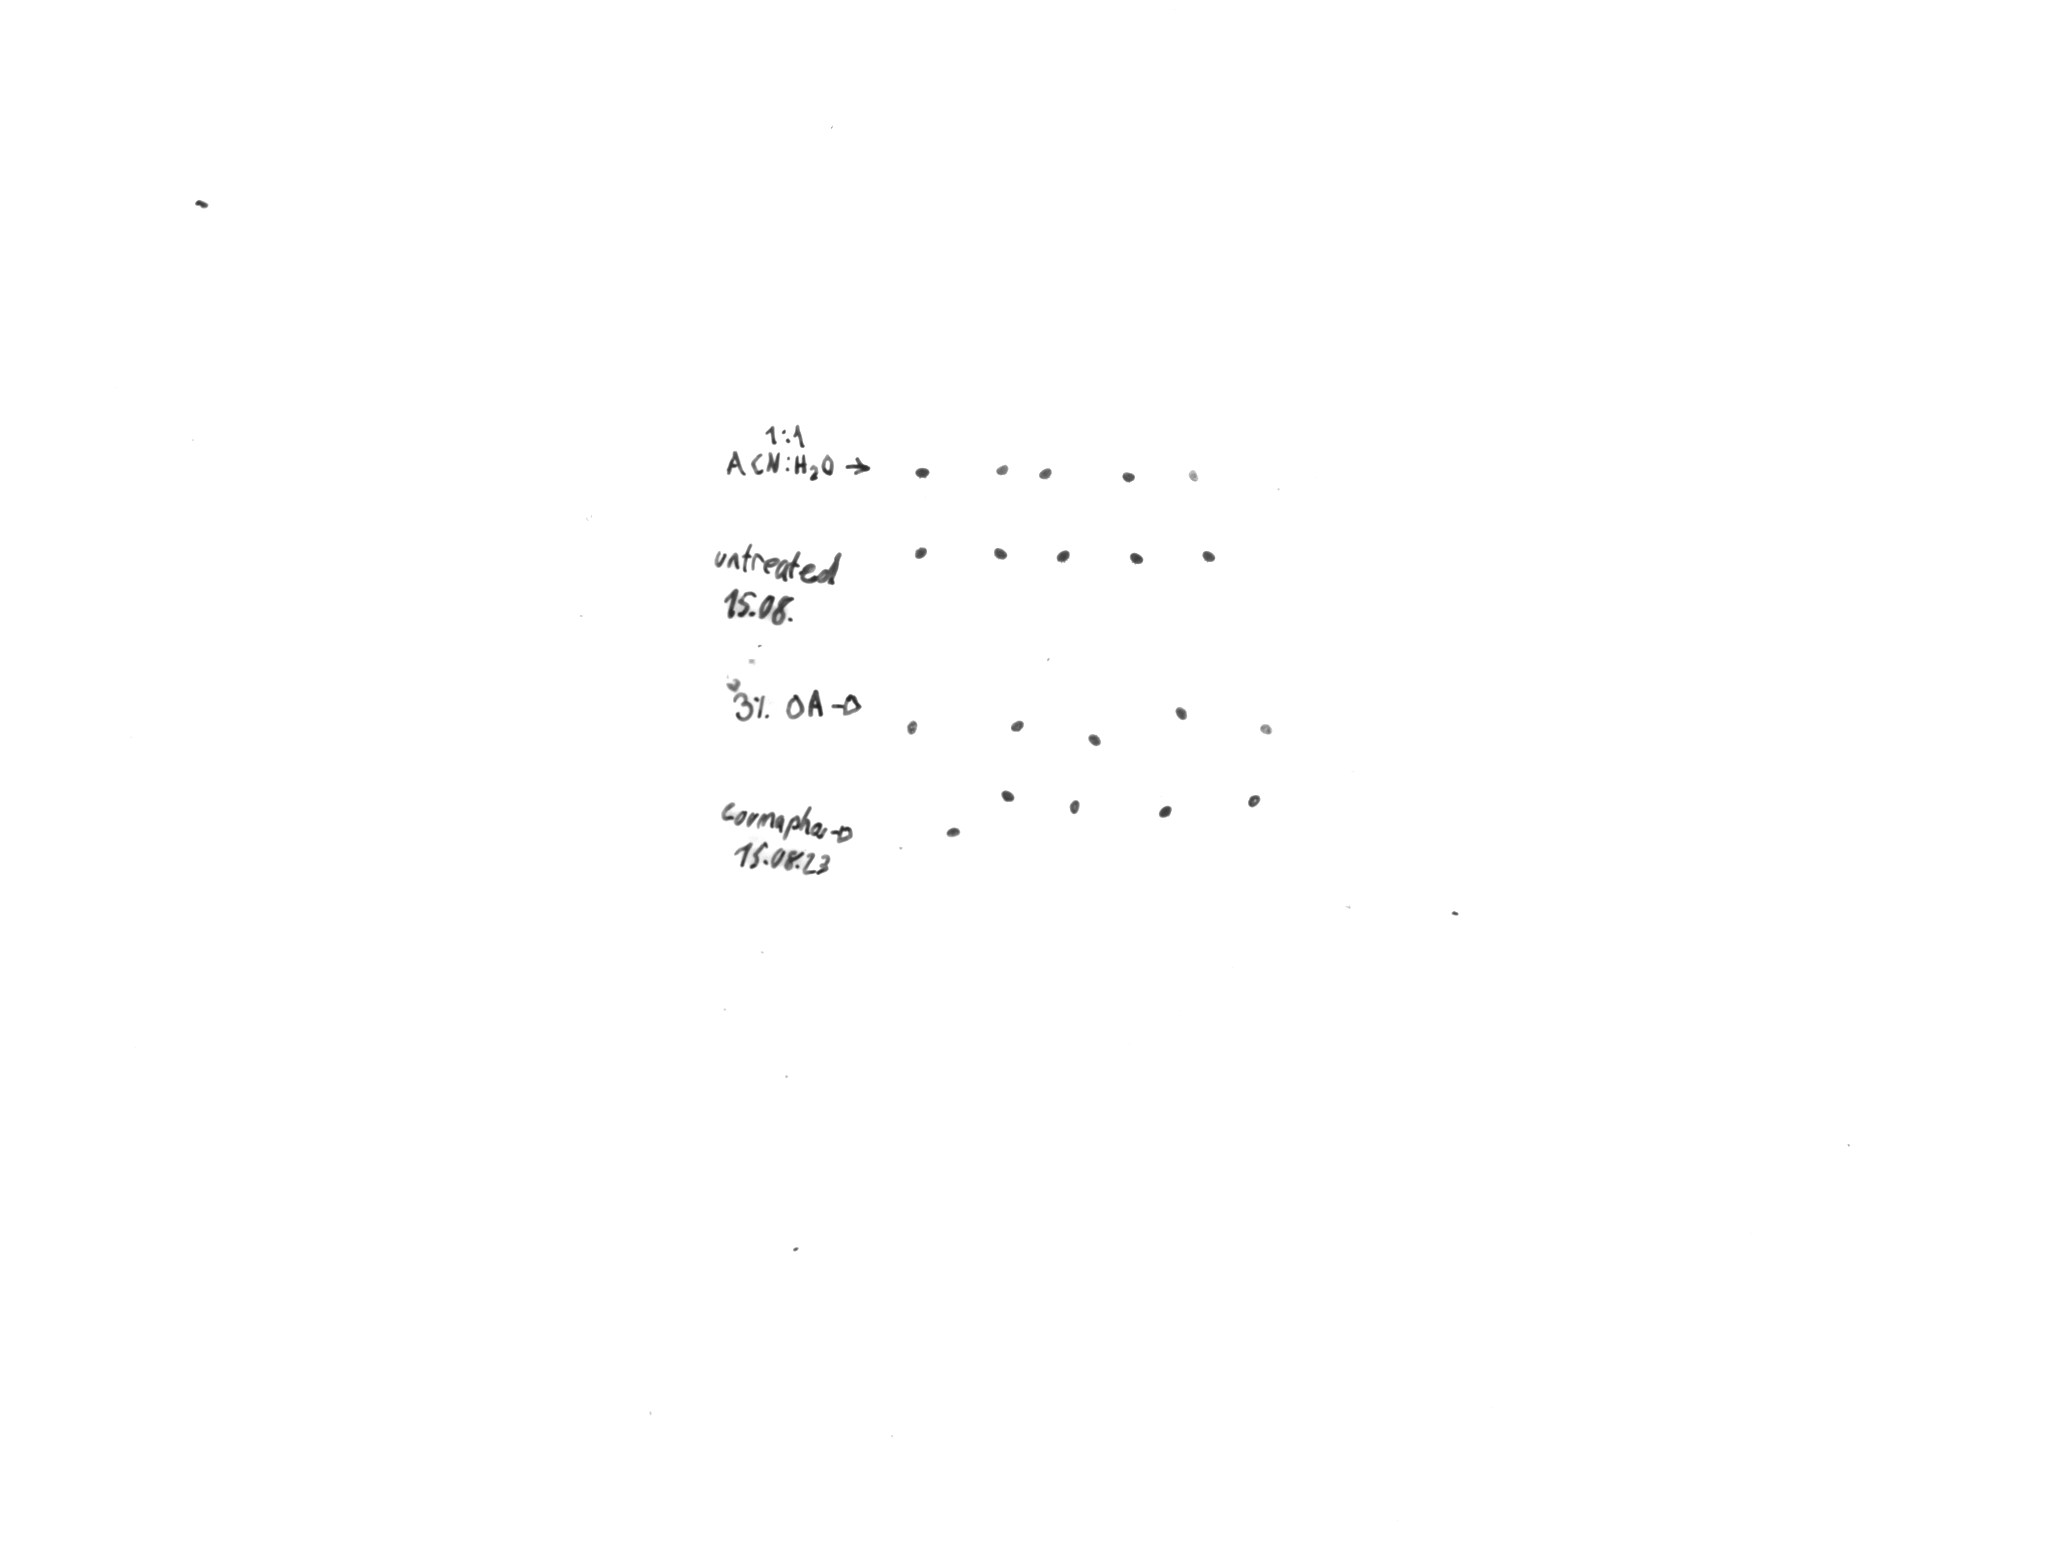varroa: (1036, 464, 1054, 482), (911, 464, 931, 480), (1007, 718, 1026, 733), (992, 545, 1008, 561), (1056, 548, 1072, 564), (1086, 731, 1103, 748), (1158, 803, 1172, 819), (905, 718, 918, 736), (994, 462, 1008, 477), (1122, 470, 1137, 485), (1185, 469, 1200, 483), (1258, 720, 1273, 735), (1245, 791, 1260, 806), (916, 547, 931, 560), (1130, 551, 1143, 566), (1175, 706, 1188, 720), (1000, 790, 1015, 803), (1200, 551, 1216, 563), (1068, 798, 1080, 814), (947, 826, 960, 837)
